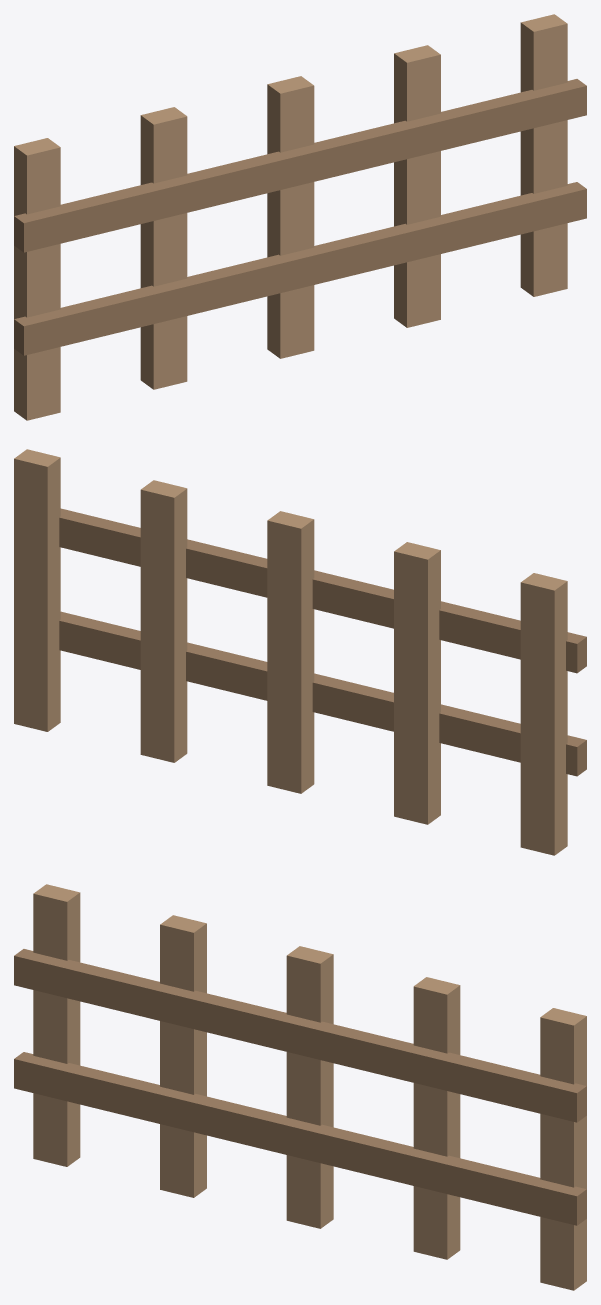
File: valla.glb
3 views of the same model, one above another, from view 1: azimuth 30°, elevation 25°; view 2: azimuth 150°, elevation 25°; view 3: azimuth 330°, elevation 25° (orthographic).
Parts seen in each view (by area): view 1: valla; view 2: valla; view 3: valla.
Boxes of the visible parts, x1,y1,x2,y2 form: valla: [14, 14, 586, 420]; valla: [14, 449, 586, 855]; valla: [14, 884, 586, 1290].
Size of the model in its own units: 2 by 0.9 by 0.13.
